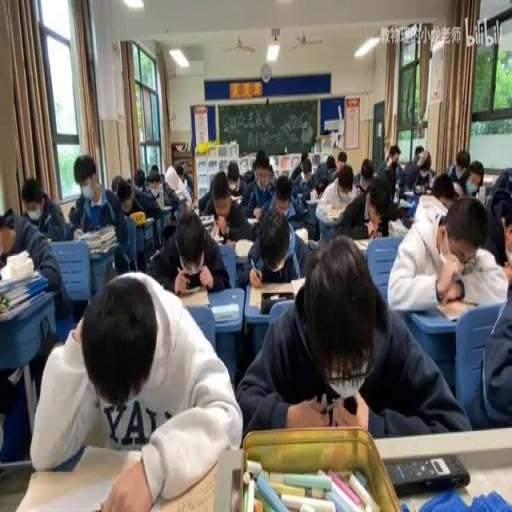calculator: (152, 458, 218, 512), (248, 282, 296, 310), (435, 298, 475, 322), (177, 286, 209, 308), (210, 300, 238, 322), (317, 203, 343, 222), (234, 236, 252, 258), (386, 218, 408, 236), (290, 276, 306, 296), (208, 222, 221, 242), (352, 238, 370, 252), (294, 224, 307, 242), (200, 213, 214, 225), (403, 189, 416, 199), (306, 196, 320, 205), (246, 214, 258, 224), (230, 194, 242, 204), (159, 203, 172, 212), (482, 175, 496, 183), (398, 198, 410, 206), (294, 192, 302, 201), (144, 216, 154, 223)
paper: (32, 270, 242, 511), (238, 235, 466, 438), (0, 319, 67, 465), (0, 182, 68, 314), (462, 266, 510, 429), (148, 206, 228, 294), (72, 155, 132, 270), (240, 202, 310, 289), (334, 166, 393, 238), (483, 173, 512, 266), (130, 168, 164, 243), (242, 152, 276, 219), (402, 145, 430, 193), (302, 155, 331, 198), (160, 165, 183, 209), (429, 170, 455, 208), (222, 158, 246, 199), (448, 148, 472, 186), (197, 169, 218, 212), (382, 165, 398, 201), (112, 248, 130, 272), (290, 154, 304, 184), (360, 162, 374, 189), (67, 202, 81, 226), (467, 168, 482, 189), (132, 166, 145, 190), (0, 204, 13, 228), (183, 171, 194, 199), (147, 163, 160, 185), (111, 174, 123, 194), (118, 192, 130, 210), (242, 168, 256, 183), (387, 145, 400, 161), (255, 148, 267, 165), (325, 154, 335, 170), (337, 152, 346, 168), (414, 144, 424, 156), (159, 174, 166, 186), (250, 158, 256, 168)
person: (386, 452, 470, 494), (182, 269, 201, 287)
